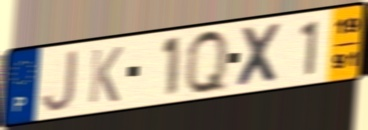1: (297, 17, 323, 78), (160, 34, 184, 99)
J: (39, 47, 79, 114)
K: (86, 44, 125, 106)
Q: (184, 27, 230, 97)
X: (234, 20, 286, 89)
